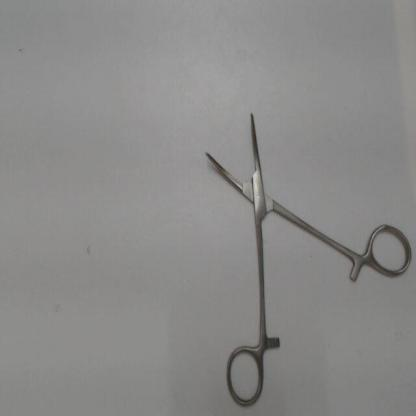Crile Artery Forceps: (196, 100, 414, 412)
